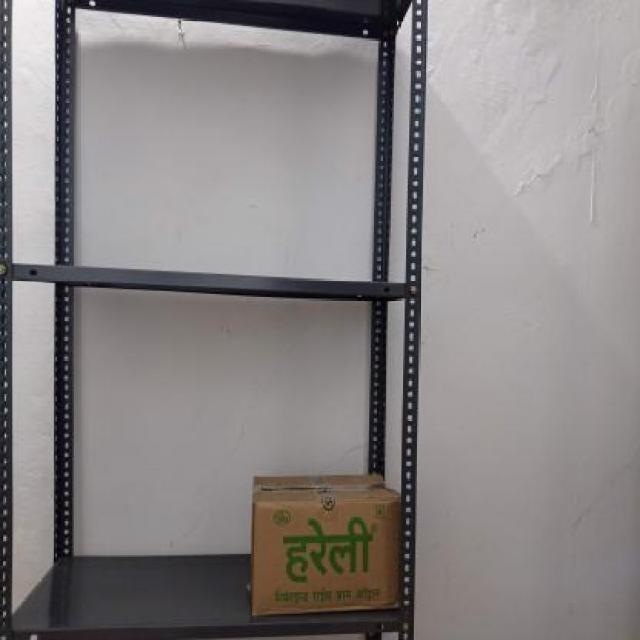box: (252, 502, 400, 610)
